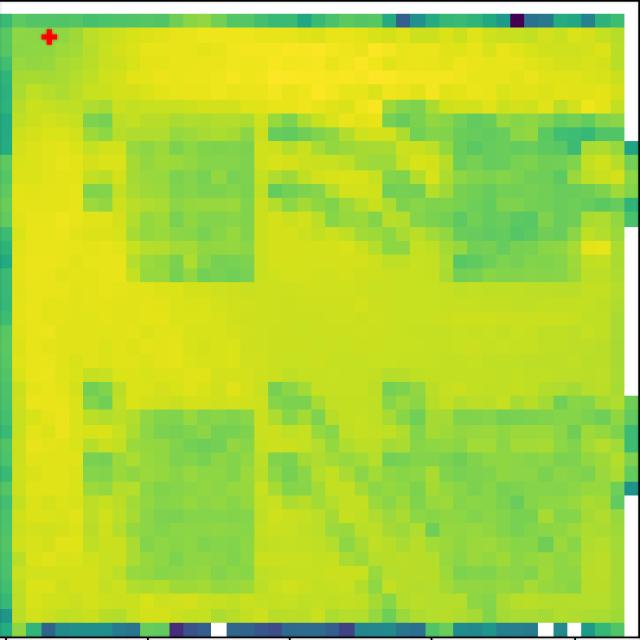Concrete: (451, 115, 582, 281)
Glass: (125, 128, 256, 284)
Metal: (443, 409, 583, 596)
Wood: (126, 408, 255, 589)
